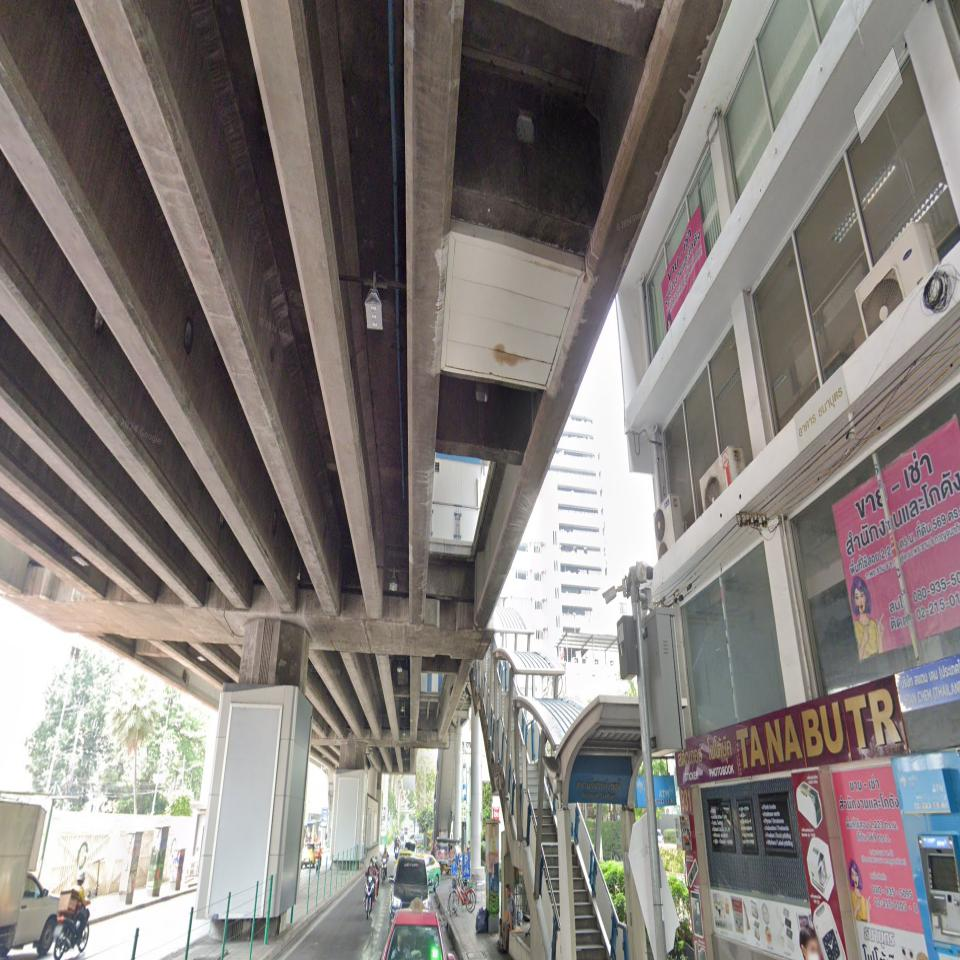National Stadium: (568, 770, 632, 804)
